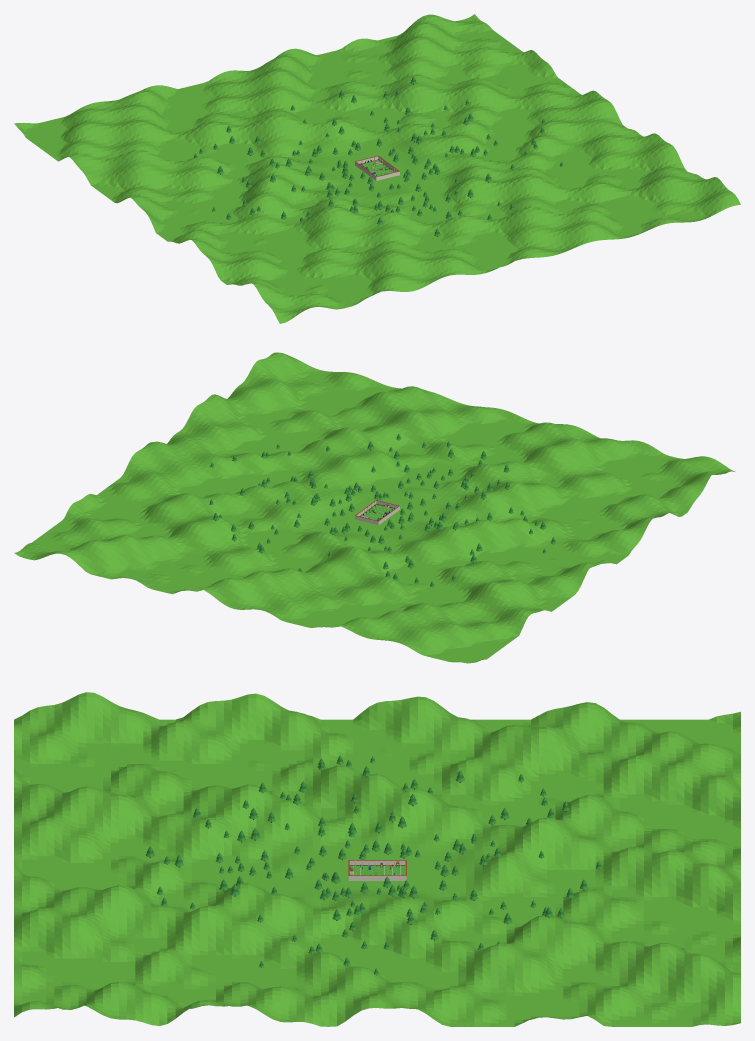
File: strzelnica-RSMCWD7Z.glb
The picture shows the model from 3 angles, top to bottom: view 1: azimuth 30°, elevation 25°; view 2: azimuth 150°, elevation 25°; view 3: azimuth 270°, elevation 25°; orthographic projection. The views are drawn at different scales.
Visible parts, largest first — view 1: Teren, Tlo_pine, Tlo_pineD; view 2: Teren, Tlo_pine, Tlo_pineD; view 3: Teren, Tlo_pine, Tlo_pineD, Plac_wall.
Part boxes in pixels (x1,y1,x2,y2): Teren: (14,14,740,323); Tlo_pine: (194,76,563,236); Tlo_pineD: (194,79,562,234); Teren: (14,352,734,663); Tlo_pine: (209,434,555,586); Tlo_pineD: (210,436,555,585); Teren: (14,692,740,1026); Tlo_pine: (146,755,601,974); Tlo_pineD: (146,759,600,972); Plac_wall: (348,860,406,880).
Size of the model in its own units: 900 by 48.5 by 900.
